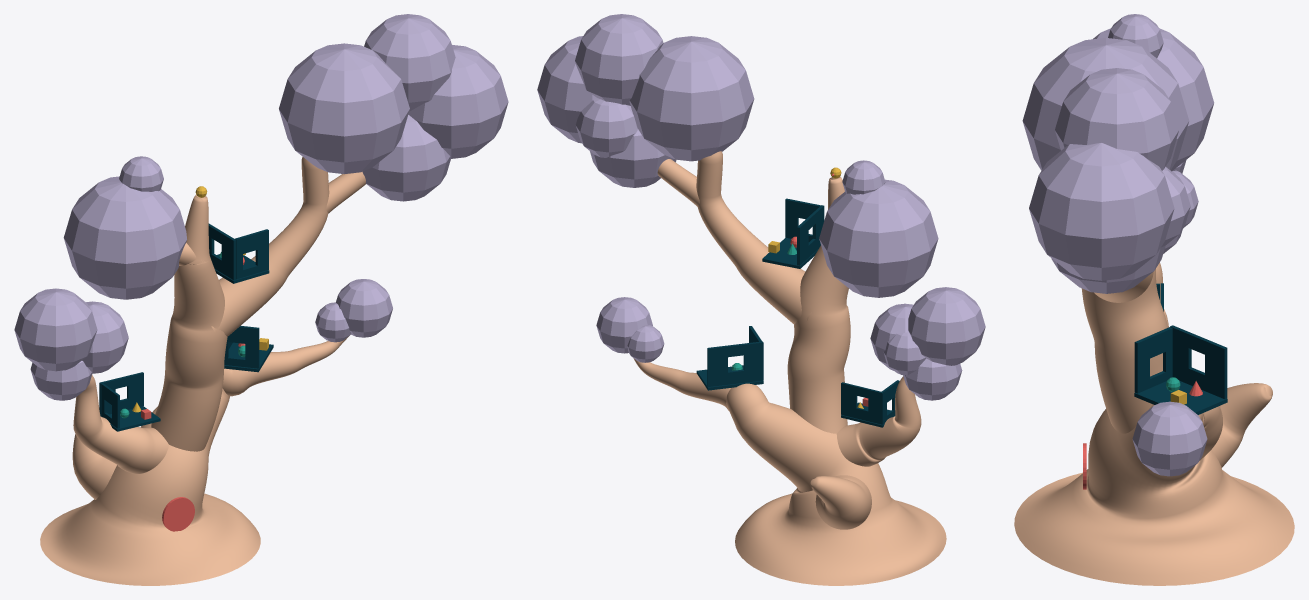
Rendered from treehouse.glb.
3 renders of one model, left to right at view 1: azimuth 30°, elevation 25°; view 2: azimuth 150°, elevation 25°; view 3: azimuth 270°, elevation 25°, orthographic. The views are drawn at different scales.
Parts seen in each view (by area): view 1: BezierCurve, Sphere.010, Sphere.015, Sphere.008, Sphere.006, Sphere.011, Sphere.009, Sphere.013, Sphere.004, Sphere.005, Sphere.016, Cube.010 (+5 smaller); view 2: BezierCurve, Sphere.010, Sphere.015, Sphere.011, Sphere.006, Sphere.008, Sphere.012, Sphere.009, Cube.004, Sphere.013, Sphere.005, Sphere.004 (+7 smaller); view 3: BezierCurve, Sphere.008, Sphere.011, Sphere.010, Sphere.013, Sphere.015, Cube.004, Cube.006, Sphere.016, Sphere.009, Cube.005, Sphere.012 (+1 smaller).
Part boxes in pixels (x1,y1,x2,y2): BezierCurve: (40, 157, 365, 585); Sphere.010: (279, 43, 409, 174); Sphere.015: (63, 176, 187, 299); Sphere.008: (408, 45, 508, 158); Sphere.006: (14, 288, 97, 371); Sphere.011: (364, 14, 455, 111); Sphere.009: (362, 115, 450, 201); Sphere.013: (336, 279, 392, 337); Sphere.004: (82, 301, 128, 373); Sphere.005: (30, 361, 92, 400); Sphere.016: (119, 156, 163, 191); Cube.010: (235, 229, 268, 279); BezierCurve: (633, 151, 946, 585); Sphere.010: (629, 36, 754, 161); Sphere.015: (819, 179, 938, 297); Sphere.011: (575, 14, 663, 105); Sphere.006: (908, 287, 985, 365); Sphere.008: (537, 36, 597, 143); Sphere.012: (575, 98, 637, 157); Sphere.009: (590, 129, 676, 187); Cube.004: (707, 341, 763, 386); Sphere.013: (596, 297, 652, 353); Sphere.005: (903, 358, 962, 400); Sphere.004: (870, 303, 913, 370); BezierCurve: (1014, 262, 1294, 585); Sphere.008: (1029, 143, 1174, 280); Sphere.011: (1055, 68, 1179, 170); Sphere.010: (1022, 38, 1189, 170); Sphere.013: (1132, 401, 1207, 476); Sphere.015: (1093, 28, 1214, 171); Cube.004: (1170, 325, 1227, 399); Cube.006: (1134, 327, 1172, 393); Sphere.016: (1108, 14, 1163, 58); Sphere.009: (1051, 245, 1165, 293); Cube.005: (1134, 381, 1227, 414); Sphere.012: (1161, 166, 1190, 247).
Bounding box in the file's own units: 29.7 × 28.9 × 12.14.
